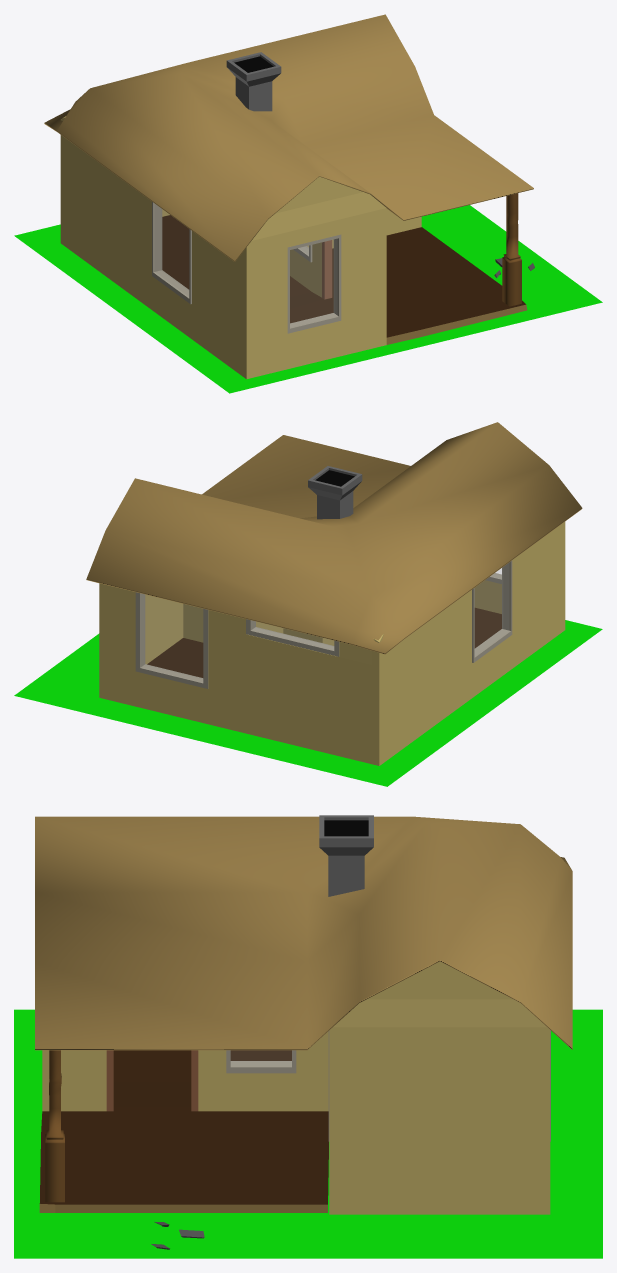
Rendered from House_Residential_1.fbx.
The picture shows the model from 3 angles, top to bottom: view 1: azimuth 30°, elevation 25°; view 2: azimuth 150°, elevation 25°; view 3: azimuth 270°, elevation 25°; orthographic projection. The views are drawn at different scales.
Parts seen in each view (by area): view 1: Roof, Wall Side Roof, Wall Back, Tile Plate, Floor, Windows, Window Frames, Chimney, Pilar, Wall Front Right Door, Door Frame; view 2: Roof, Wall Side Right, Wall Back, Tile Plate, Windows, Window Frames, Wall Front Roof, Floor, Chimney, Wall Side Roof, Wall Side Right Side Door; view 3: Roof, Wall Front Roof, Tile Plate, Floor, Wall Front Right Door, Chimney, Wall Front Left Door, Pilar, Window Frames, Door Frame, Windows.
Boxes of the visible parts, x1,y1,x2,y2 form: Roof: (44,14,533,261); Wall Side Roof: (241,176,386,379); Wall Back: (60,117,241,374); Tile Plate: (14,205,602,393); Floor: (162,215,527,344); Windows: (161,209,333,323); Window Frames: (152,202,341,333); Chimney: (226,52,281,111); Pilar: (502,193,521,306); Wall Front Right Door: (290,242,321,297); Door Frame: (322,240,332,299); Roof: (86,422,582,654); Wall Side Right: (106,585,383,765); Wall Back: (379,525,559,765); Tile Plate: (14,620,602,786); Windows: (144,568,502,678); Window Frames: (135,560,512,688); Wall Front Roof: (99,583,183,699); Floor: (147,607,501,677); Chimney: (308,466,362,519); Wall Side Roof: (474,522,565,633); Wall Side Right Side Door: (183,604,203,642); Roof: (35,816,572,1050); Wall Front Roof: (329,961,550,1214); Tile Plate: (14,1009,602,1258); Floor: (39,1050,328,1212); Wall Front Right Door: (198,1031,328,1111); Chimney: (319,815,373,896); Wall Front Left Door: (61,1050,106,1111); Pilar: (45,1050,64,1202); Window Frames: (226,1030,550,1141); Door Frame: (106,1050,198,1111); Windows: (231,1051,291,1061).
Bounding box in the file's own units: 1600 × 858 × 1600.
